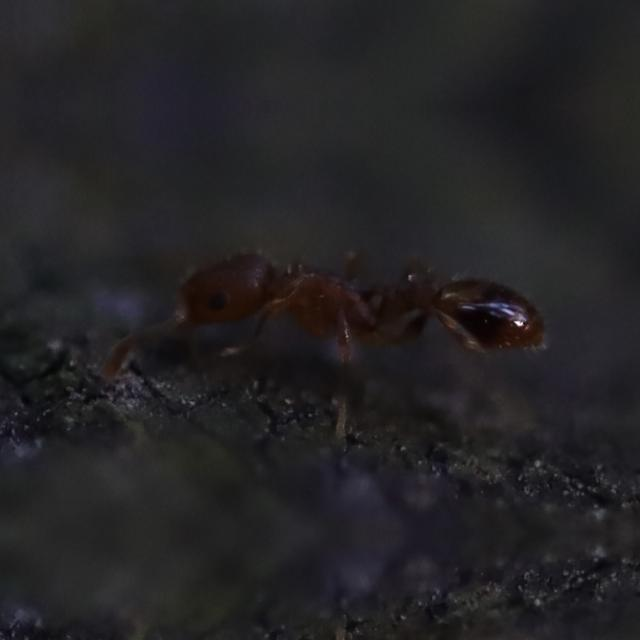Temnothorax: (132, 208, 556, 412)
